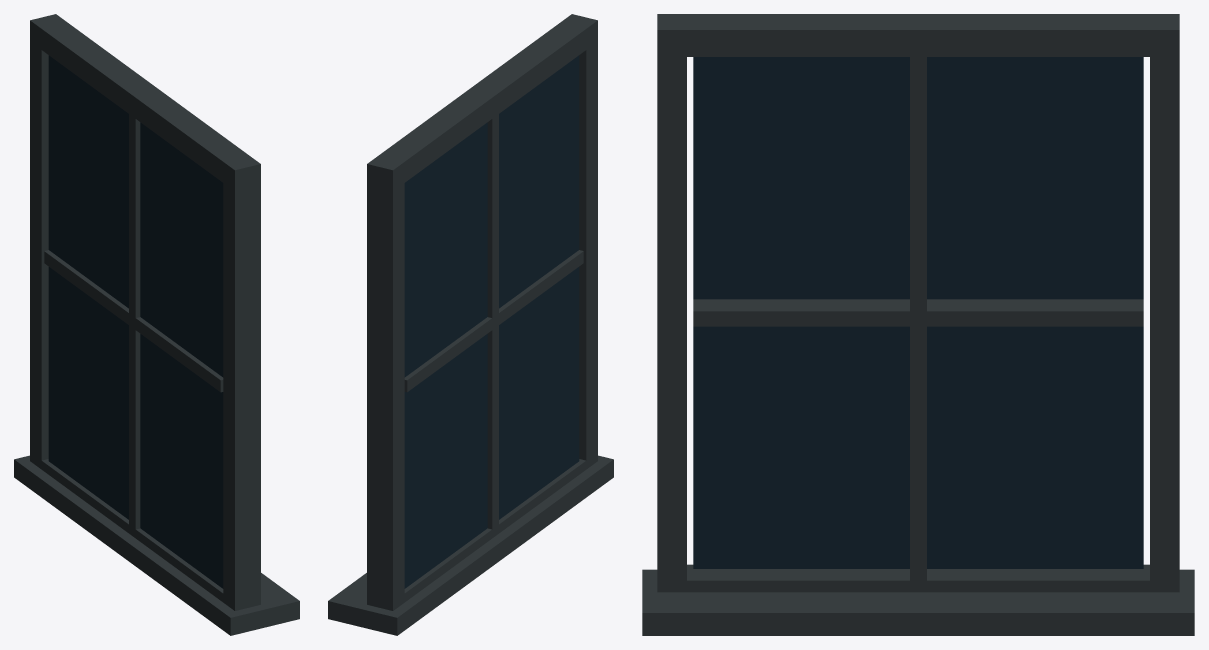
File: window_frame.obj
3 views of the same model, side by side, from view 1: azimuth 30°, elevation 25°; view 2: azimuth 150°, elevation 25°; view 3: azimuth 270°, elevation 25° (orthographic). The views are drawn at different scales.
Parts seen in each view (by area): view 1: window_frame; view 2: window_frame; view 3: window_frame.
Boxes of the visible parts, box(x1,y1,x2,y2) form: window_frame: box(14, 14, 299, 635); window_frame: box(328, 14, 613, 635); window_frame: box(642, 14, 1194, 635).
Bounding box in the file's own units: 0.24 × 1.52 × 1.3.
